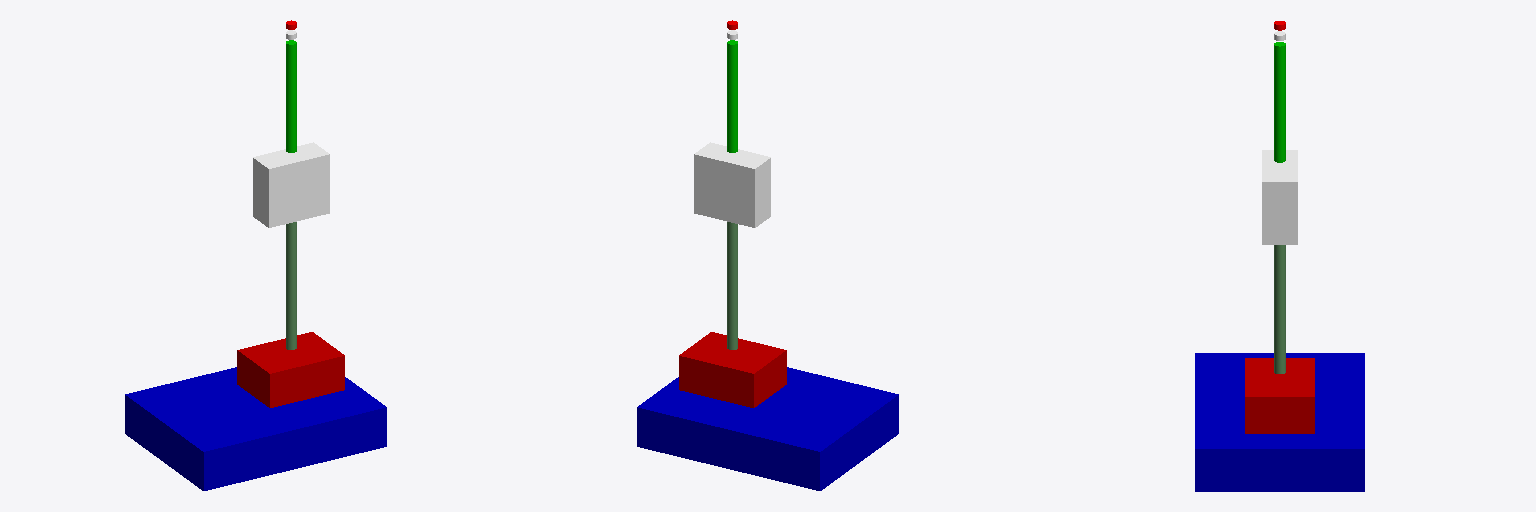
URDF robot description (f1):
<robot name="f1">
  <link name="base" >
   <visual>
       <geometry>
        <box size=".195 .145 .04"/>
       </geometry>
       <origin xyz="0 0 .02" rpy="0 0 0" />
       <material name="blue">
        <color rgba="0 0 .8 .8"/>
       </material>	
    </visual>
  </link>
  <link name="link1" >
   <visual>
       <geometry>
         <box size=".08 .06 .035"/>
       </geometry>
       <origin xyz="0 0 .0175" rpy="0 0 0" />
       <material name="red">
        <color rgba=".8 0 0 .8"/>
       </material>	
    </visual>
  </link>
  <link name="link2" >
   <visual>
       <geometry>
         <cylinder length=".13" radius=".005"/>
       </geometry>
       <origin xyz="0 0 .065" rpy="0 0 0" />
       <material name="grey_a">
        <color rgba=".4 .6 .4 .8"/>
       </material>	
    </visual>
  </link>
  <link name="link3" >
   <visual>
       <geometry>
         <box size=".065 .03 .06"/>
       </geometry>
       <origin xyz="0 0 .03" rpy="0 0 0" />
       <material name="white">
        <color rgba="1 1 1 .8"/>
       </material>	
    </visual>
  </link>
  <link name="link4" >
   <visual>
       <geometry>
         <cylinder length=".11" radius=".005"/>
       </geometry>
       <origin xyz="0 0 .055" rpy="0 0 0" />
       <material name="green">
        <color rgba="0 .8 0 1"/>
       </material>	
    </visual>
  </link>
  <link name="polso" >
   <visual>
       <geometry>
         <cylinder length=".005" radius=".005"/>
       </geometry>
       <origin xyz="0 0 .0025" rpy="0 0 0" />
       <material name="white_punta">
        <color rgba="1 1 1 .5"/>
       </material>	
    </visual>
  </link>
  <link name="punta" >
   <visual>
       <geometry>
         <cylinder length=".005" radius=".005"/>
       </geometry>
       <origin xyz="0 0 .0025" rpy="0 0 0" />
       <material name="red_punta">
        <color rgba="1 0 0 1"/>
       </material>	
    </visual>
  </link>

  <joint name="joint1" type="revolute">
    <parent link="base"/>
    <child link="link1"/>
    <origin xyz=".0375 0 .045" rpy="0 0 0" />
    <axis xyz="0 0 1"/>
    <limit effort="30" velocity="1.0" lower="-1.57" upper="1.57" />
  </joint>

  <joint name="joint2" type="revolute">
    <parent link="link1"/>
    <child link="link2"/>
    <origin xyz="0 0 .04" rpy="0 0 0" />
    <axis xyz="1 0 0" />
    <limit effort="30" velocity="1.0" lower="-1.57" upper="1.57" />
  </joint>

  <joint name="joint3" type="revolute">
    <parent link="link2"/>
    <child link="link3"/>
    <origin xyz="0 0 .135" rpy="0 0 0" />
    <axis xyz="1 0 0" />
    <limit effort="30" velocity="1.0" lower="-0.4" upper="1.57" />
  </joint>

  <joint name="joint4" type="revolute">
    <parent link="link3"/>
    <child link="link4"/>
    <origin xyz="0 0 .065" rpy="0 0 0" />
    <axis xyz="0 0 1" />
    <limit effort="30" velocity="1.0" lower="-1.57" upper="1.57" />
  </joint>

  <joint name="rigido" type="fixed">
    <parent link="link4"/>
    <child link="polso"/>
    <origin xyz="0 0 .115" rpy="0 0 0" />
  </joint>

  <joint name="joint_strumento" type="fixed">
    <parent link="polso"/>
    <child link="punta"/>
    <origin xyz="0 0 .01" rpy="0 0 0" />
  </joint>

  <transmission name="tran1">
    <type>transmission_interface/SimpleTransmission</type>
    <joint name="joint1"> 
	<hardwareInterface>PositionJointInterface</hardwareInterface>
    </joint>
    <actuator name="joint_1">
      <hardwareInterface>PositionJointInterface</hardwareInterface>
      <mechanicalReduction>1</mechanicalReduction>
    </actuator>
  </transmission>

  <transmission name="tran2">
    <type>transmission_interface/SimpleTransmission</type>
    <joint name="joint2">
	<hardwareInterface>PositionJointInterface</hardwareInterface>
    </joint>
    <actuator name="joint_2">
      <hardwareInterface>PositionJointInterface</hardwareInterface>
      <mechanicalReduction>1</mechanicalReduction>
    </actuator>
  </transmission>

  <transmission name="tran3">
    <type>transmission_interface/SimpleTransmission</type>
    <joint name="joint3">
	<hardwareInterface>PositionJointInterface</hardwareInterface>
    </joint>
    <actuator name="joint_3">
      <hardwareInterface>PositionJointInterface</hardwareInterface>
      <mechanicalReduction>1</mechanicalReduction>
    </actuator>
  </transmission>

  <transmission name="tran4">
    <type>transmission_interface/SimpleTransmission</type>
    <joint name="joint4">
	<hardwareInterface>PositionJointInterface</hardwareInterface>
    </joint>
    <actuator name="joint_4">
      <hardwareInterface>PositionJointInterface</hardwareInterface>
      <mechanicalReduction>1</mechanicalReduction>
    </actuator>
  </transmission>

</robot>

--- Facts derived from the render (not from the file) ---
3 views of the same robot in one strip: view 1: azimuth 30°, elevation 25°; view 2: azimuth 150°, elevation 25°; view 3: azimuth 270°, elevation 25° (orthographic).
Robot: f1 — 7 links, 6 joints (4 revolute, 2 fixed); root link base; default pose: all joints at 0.
Visible links, largest first — view 1: base, link1, link3, link2, link4; view 2: base, link1, link3, link2, link4; view 3: base, link1, link3, link2, link4.
Link boxes in pixels (x1=…): base: x1=125, y1=367, x2=386, y2=490; link1: x1=237, y1=332, x2=344, y2=407; link3: x1=253, y1=142, x2=329, y2=227; link2: x1=286, y1=222, x2=296, y2=349; link4: x1=286, y1=40, x2=296, y2=152; base: x1=637, y1=367, x2=898, y2=490; link1: x1=679, y1=332, x2=786, y2=407; link3: x1=694, y1=142, x2=770, y2=227; link2: x1=727, y1=222, x2=737, y2=349; link4: x1=727, y1=40, x2=737, y2=152; base: x1=1195, y1=353, x2=1364, y2=491; link1: x1=1245, y1=358, x2=1314, y2=433; link3: x1=1262, y1=150, x2=1297, y2=244; link2: x1=1274, y1=245, x2=1285, y2=373; link4: x1=1274, y1=42, x2=1285, y2=162.
Bounding box of the posed robot: 0.195 × 0.145 × 0.415 m (x, y, z).
Geometry: primitives only (box / cylinder / sphere), no mesh files.
